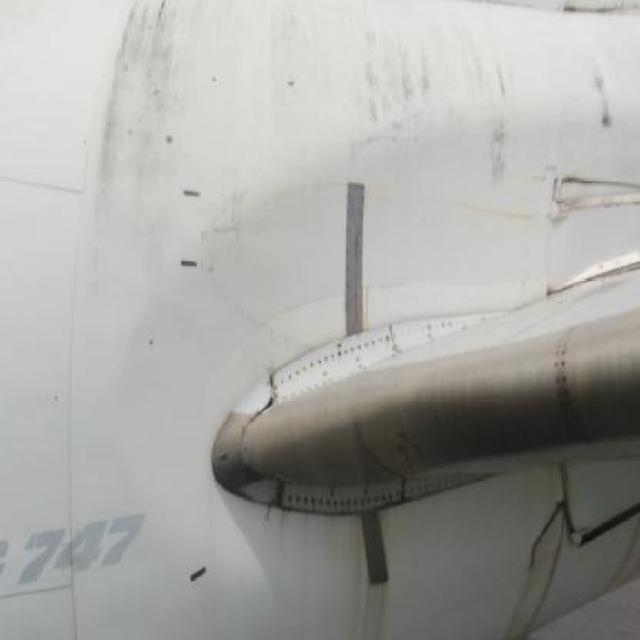Missing-Rivet: (272, 325, 421, 390), (270, 478, 424, 514)
Rust: (193, 1, 533, 187), (81, 1, 190, 334), (283, 509, 420, 640), (537, 9, 640, 157), (498, 486, 577, 640), (424, 184, 551, 242), (601, 486, 640, 607)
Scartch: (193, 189, 276, 328), (546, 157, 640, 234)
